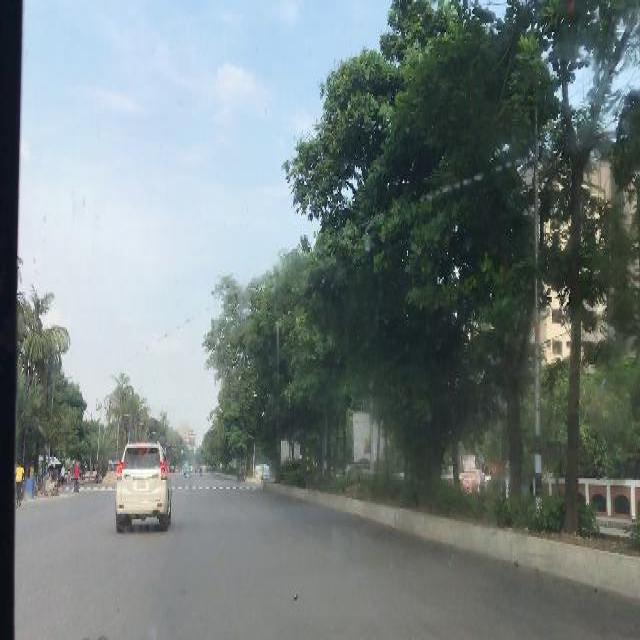bike: (16, 464, 27, 510)
vehicle: (113, 440, 173, 540), (235, 461, 248, 484)
